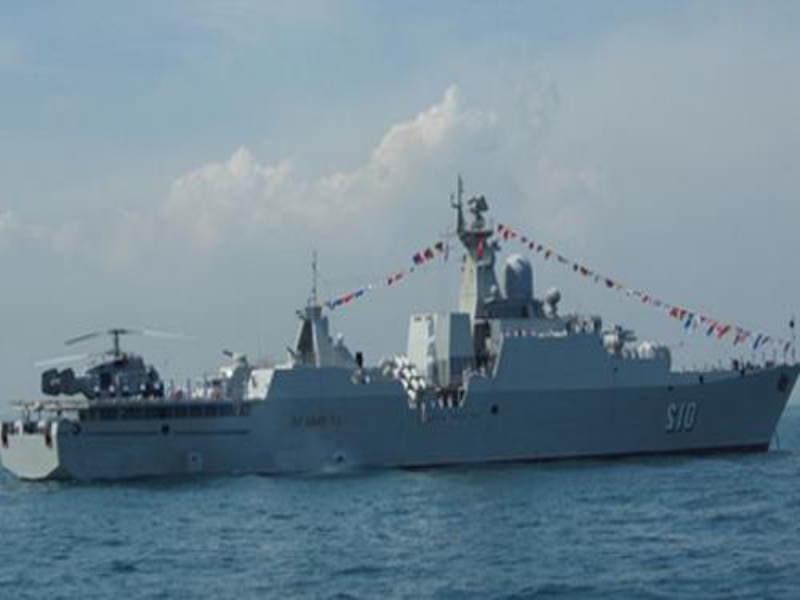cruise: (27, 259, 790, 465)
